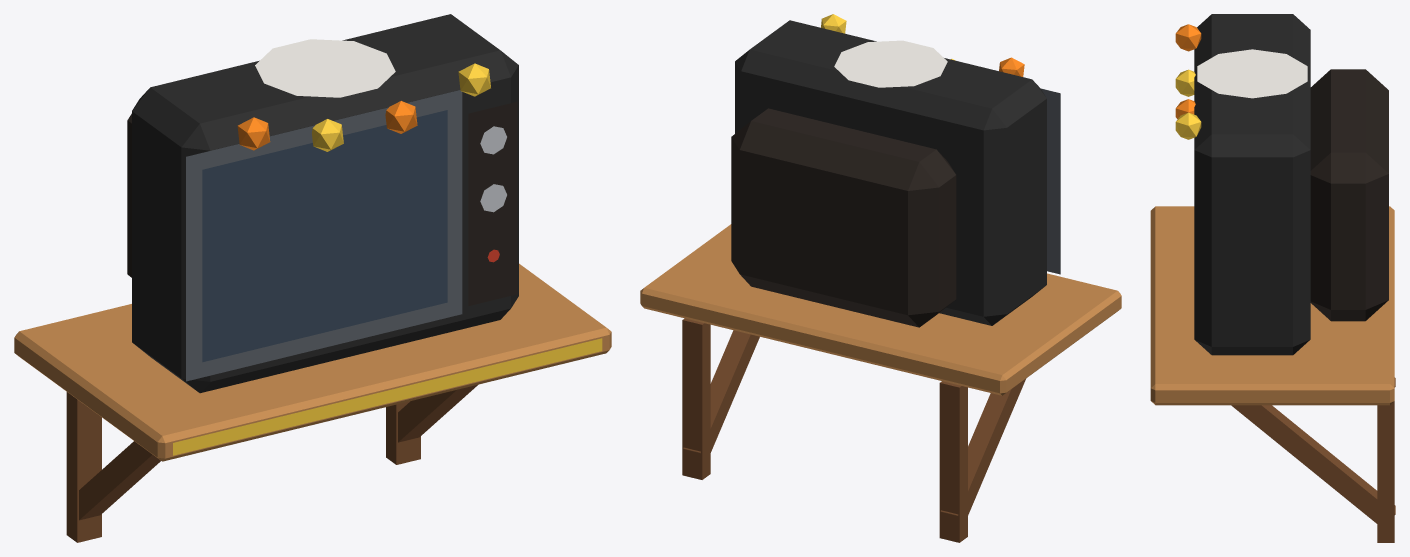
Rendered from tv_set.glb.
The picture shows the model from 3 angles, left to right: view 1: azimuth 30°, elevation 25°; view 2: azimuth 150°, elevation 25°; view 3: azimuth 270°, elevation 25°; orthographic projection. The views are drawn at different scales.
Parts seen in each view (by area): view 1: tv_body, tv_screen; view 2: tv_body; view 3: tv_body.
Boxes of the visible parts, x1,y1,x2,y2 form: tv_body: [14, 14, 611, 542]; tv_screen: [202, 110, 447, 362]; tv_body: [640, 14, 1121, 542]; tv_body: [1150, 14, 1395, 542].
Size of the model in its own units: 0.74 by 0.771 by 0.4227.
Materials: 1 (1 with a texture image).
